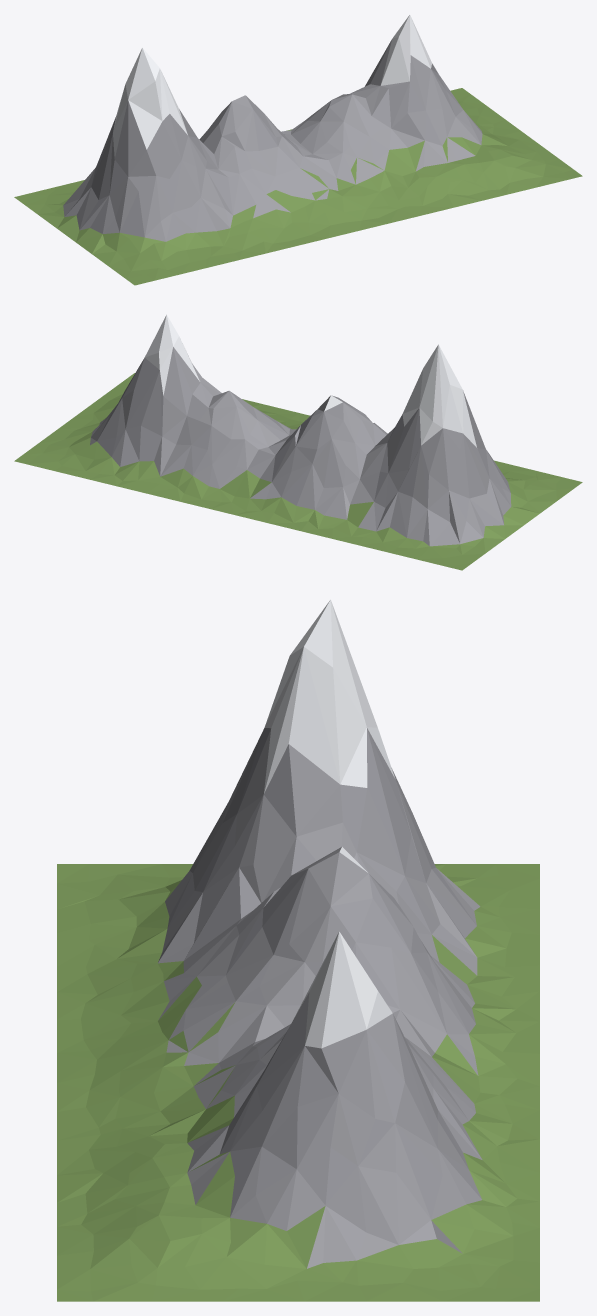
File: RangeA.fbx
3 renders of one model, top to bottom at view 1: azimuth 30°, elevation 25°; view 2: azimuth 150°, elevation 25°; view 3: azimuth 270°, elevation 25°, orthographic. The views are drawn at different scales.
Parts seen in each view (by area): view 1: RangeA_Rock, RangeA_Grass, RangeA_Snow; view 2: RangeA_Rock, RangeA_Grass, RangeA_Snow; view 3: RangeA_Rock, RangeA_Grass, RangeA_Snow.
Boxes of the visible parts, box(x1,y1,x2,y2) form: RangeA_Rock: box(63, 39, 482, 241); RangeA_Grass: box(14, 88, 582, 285); RangeA_Snow: box(113, 15, 432, 158); RangeA_Rock: box(90, 347, 511, 546); RangeA_Grass: box(14, 373, 582, 570); RangeA_Snow: box(144, 314, 476, 447); RangeA_Rock: box(158, 728, 482, 1268); RangeA_Grass: box(57, 864, 539, 1301); RangeA_Snow: box(264, 599, 395, 1048).
Bounding box in the file's own units: 900 × 325 × 420.
